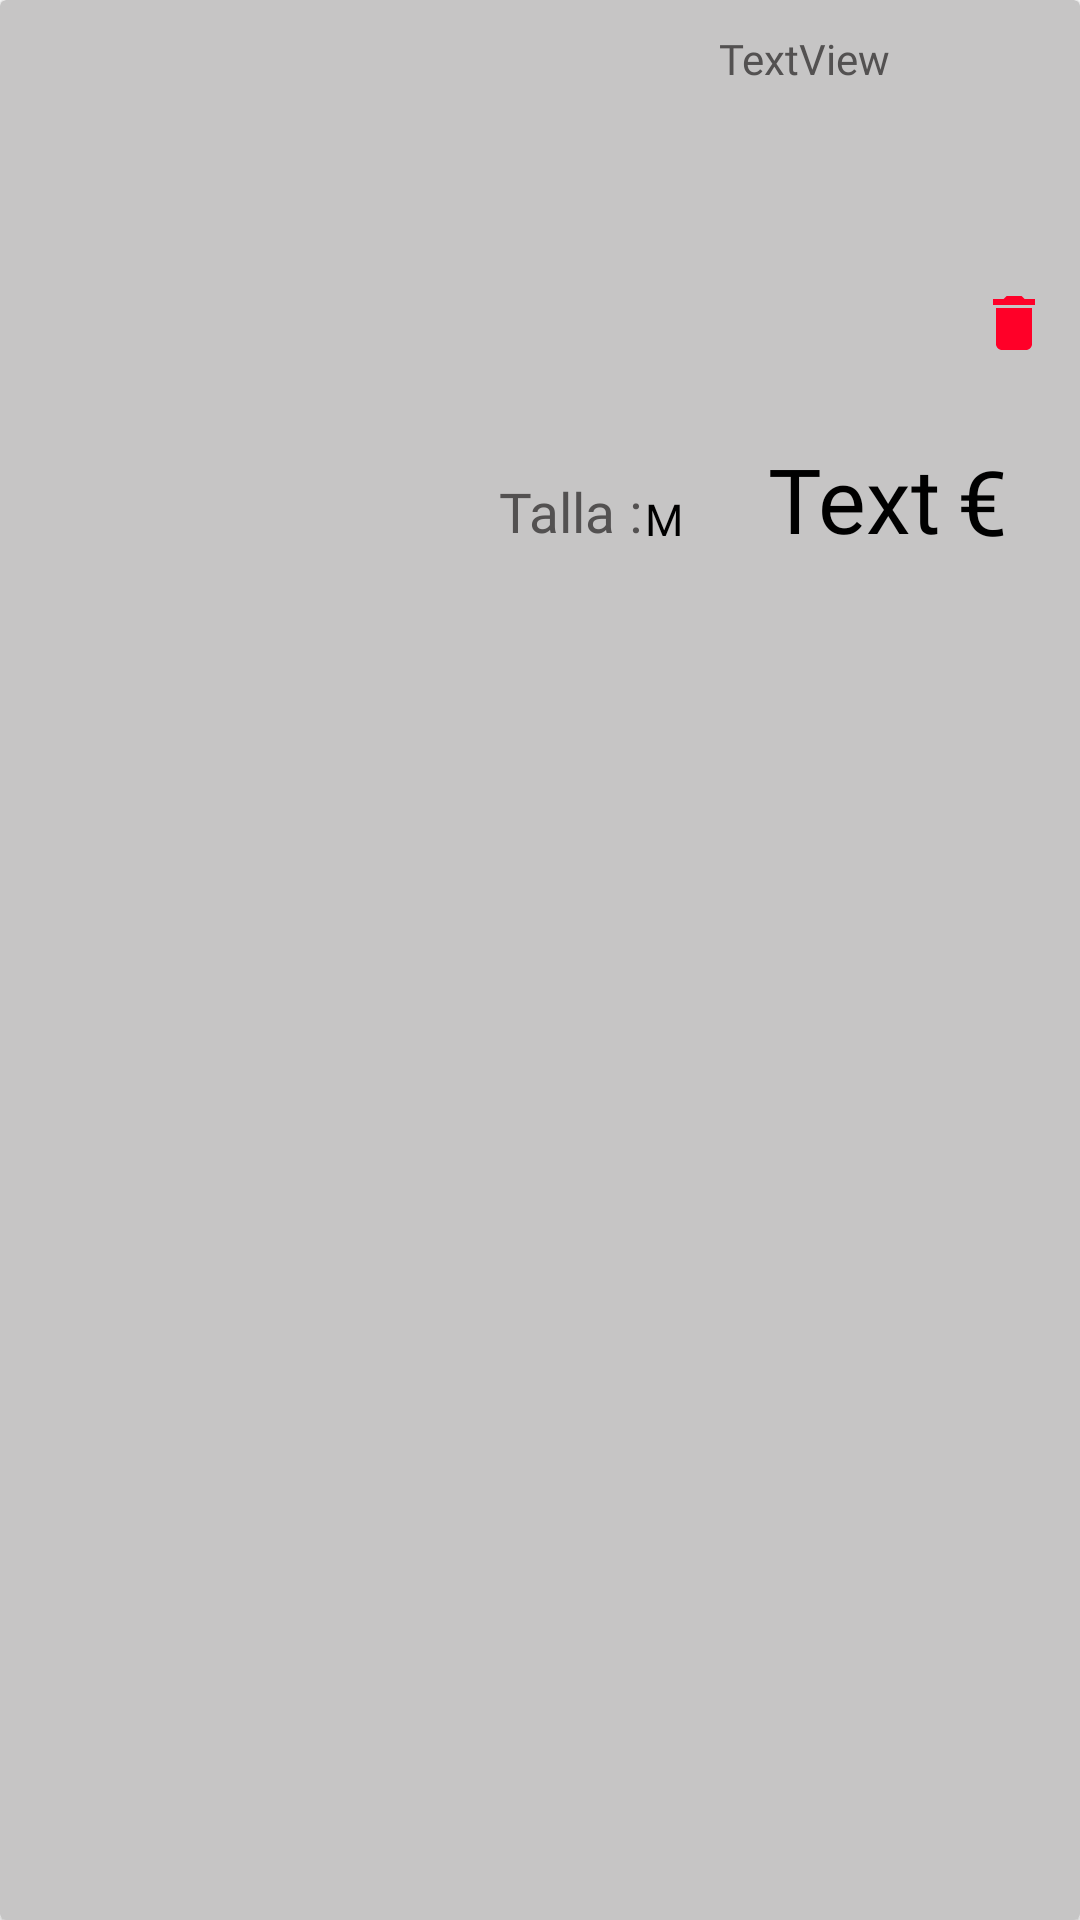

Point at icon controls on the screen. Image size 1080x1920, points as (x,y).
delete: (1014,323)
